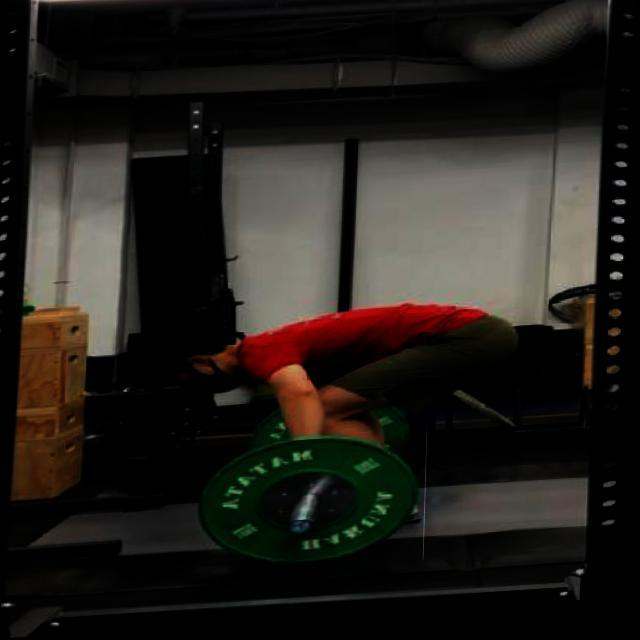barbell: (189, 431, 431, 579)
